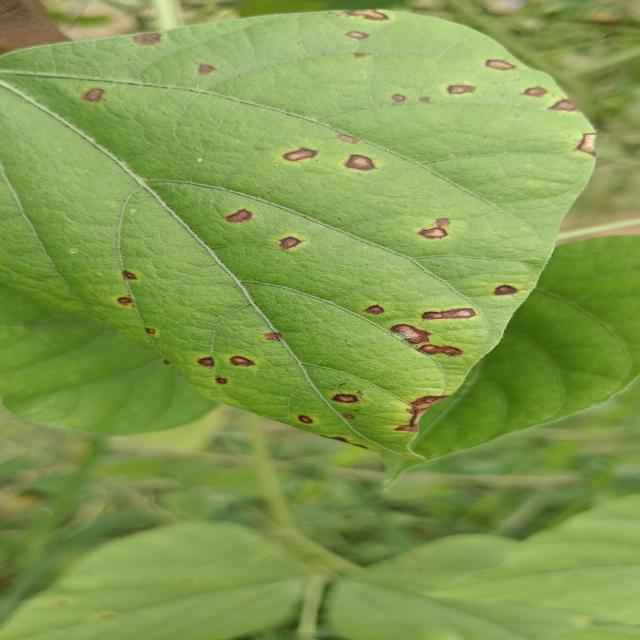Dolicos bean_cercospora leaf spot: (0, 0, 591, 462)
